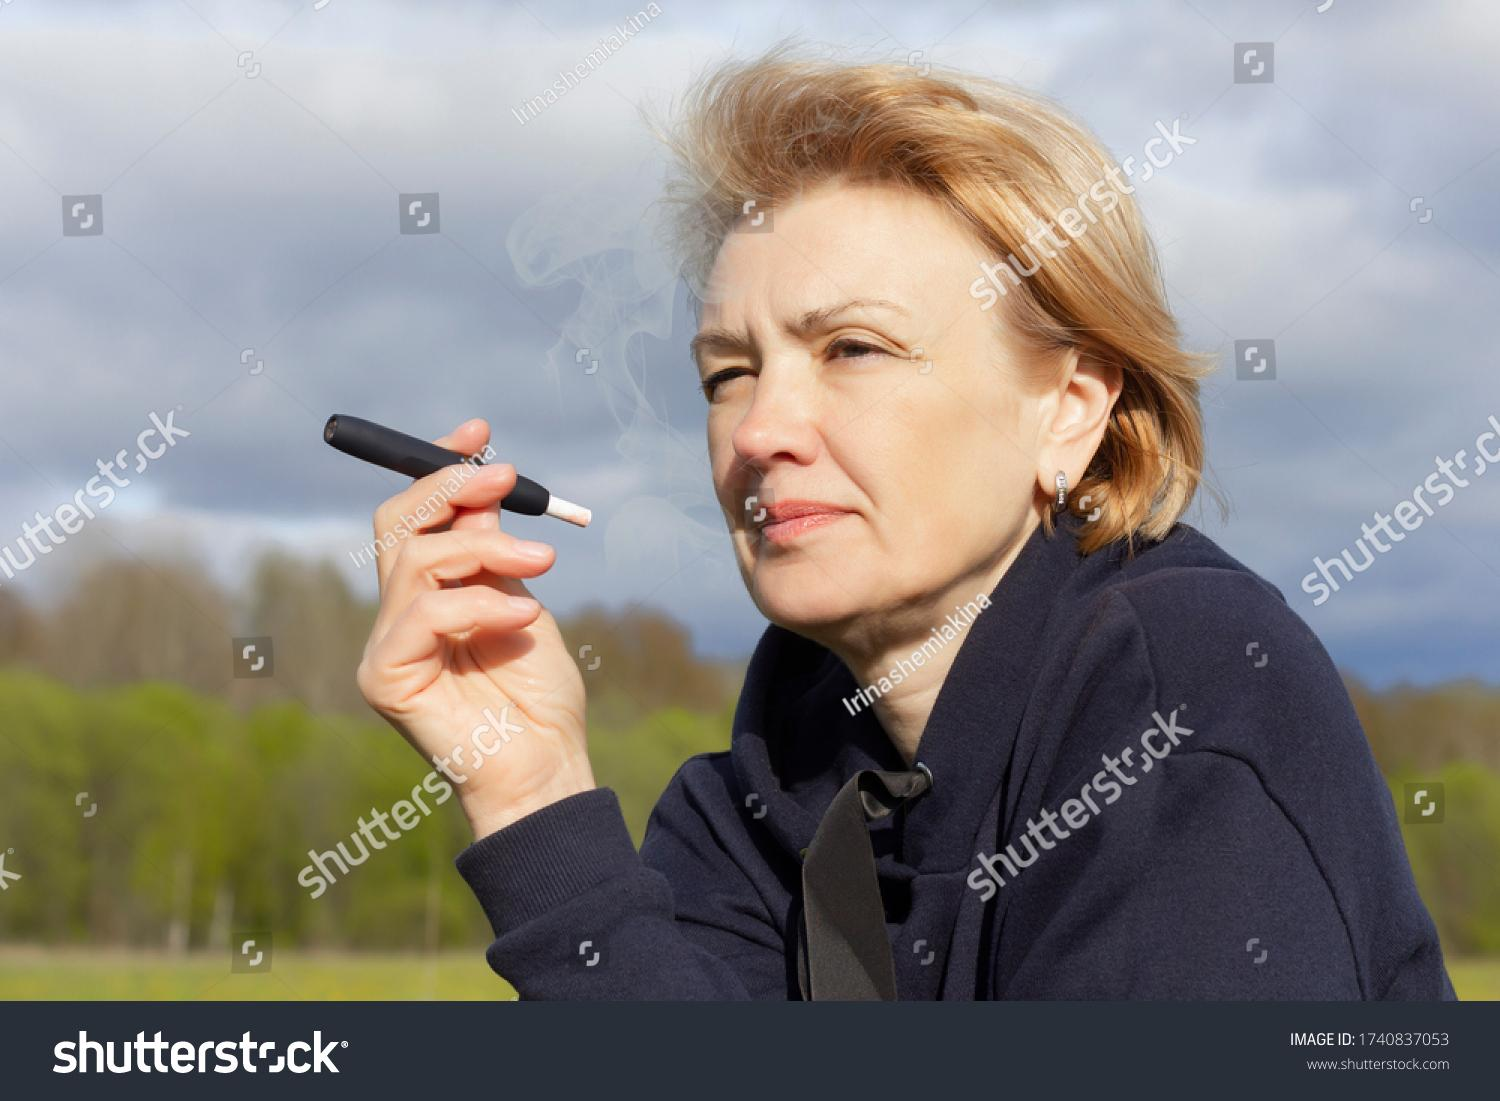iqos: (321, 414, 593, 529)
